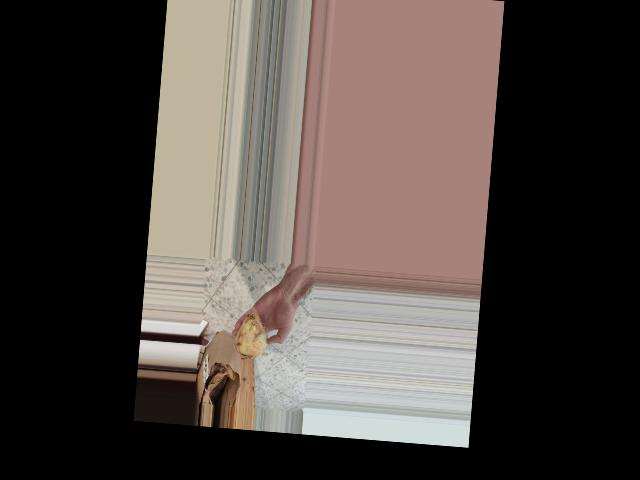onion: (230, 305, 276, 364)
